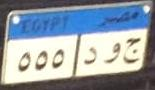5: (51, 48, 67, 71), (16, 50, 32, 73), (34, 51, 48, 71)
daal: (84, 46, 98, 67)
jeem: (123, 35, 141, 66)
waw: (102, 41, 121, 64)
